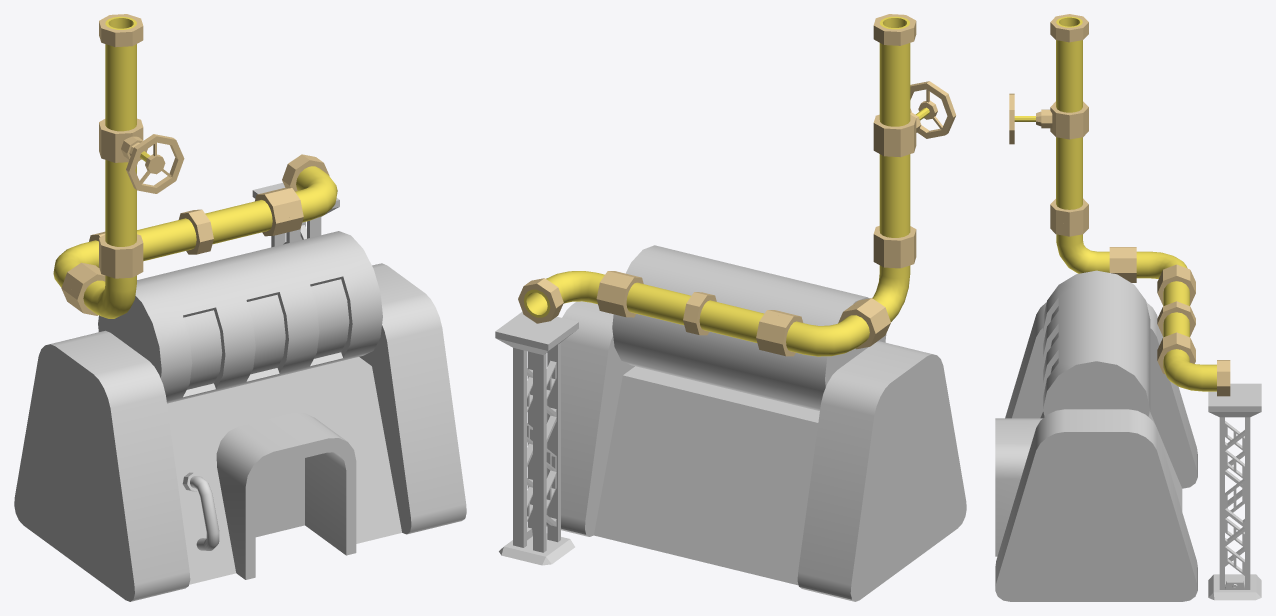
File: card machine.fbx
The picture shows the model from 3 angles, left to right: view 1: azimuth 30°, elevation 25°; view 2: azimuth 150°, elevation 25°; view 3: azimuth 270°, elevation 25°; orthographic projection. The views are drawn at different scales.
Visible parts, largest first — view 1: Cube.007, Cube.008, Cylinder.011, Vert.013, Vert.026, Vert.008, Cylinder.016, Cylinder.017, Cylinder.014, Cylinder.018, Vert.022, Vert.038 (+12 smaller); view 2: Cube.007, Cube.008, Cylinder.011, Cube.003, Vert.013, Vert.026, Vert.008, Vert.010, Vert.038, Vert.022, Cylinder.018, Vert.039 (+11 smaller); view 3: Cube.007, Cylinder.011, Cube.003, Cube.008, Vert.026, Vert.008, Vert.038, Vert.022, Vert.013, Vert.010, Vert.043, Vert.009 (+10 smaller).
Boxes of the visible parts, x1,y1,x2,y2 form: Cube.007: (14, 263, 466, 601); Cube.008: (167, 357, 401, 584); Cylinder.011: (98, 231, 382, 403); Vert.013: (137, 200, 272, 261); Vert.026: (105, 16, 136, 131); Vert.008: (105, 160, 136, 246); Cylinder.016: (247, 294, 285, 374); Cylinder.017: (183, 310, 222, 389); Cylinder.014: (311, 279, 349, 358); Cylinder.018: (126, 134, 184, 193); Vert.022: (83, 275, 136, 318); Vert.038: (295, 166, 337, 222); Cube.007: (546, 301, 966, 601); Cube.008: (594, 366, 819, 585); Cylinder.011: (612, 245, 886, 411); Cube.003: (495, 311, 578, 565); Vert.013: (626, 282, 764, 342); Vert.026: (879, 16, 910, 126); Vert.008: (879, 154, 910, 237); Vert.010: (786, 315, 869, 356); Vert.038: (524, 271, 604, 317); Vert.022: (872, 265, 910, 321); Cylinder.018: (910, 81, 956, 138); Vert.039: (518, 278, 563, 323); Cube.007: (995, 302, 1197, 601); Cylinder.011: (1043, 270, 1150, 416); Cube.003: (1208, 383, 1261, 600); Cube.008: (995, 411, 1182, 556); Vert.026: (1056, 16, 1082, 112); Vert.008: (1056, 137, 1082, 209); Vert.038: (1163, 349, 1216, 391); Vert.022: (1056, 234, 1109, 273); Vert.013: (1163, 281, 1189, 337); Vert.010: (1136, 251, 1187, 278); Vert.043: (1050, 14, 1088, 42); Vert.009: (1050, 198, 1088, 224).
Size of the model in its own units: 600 by 940 by 497.
